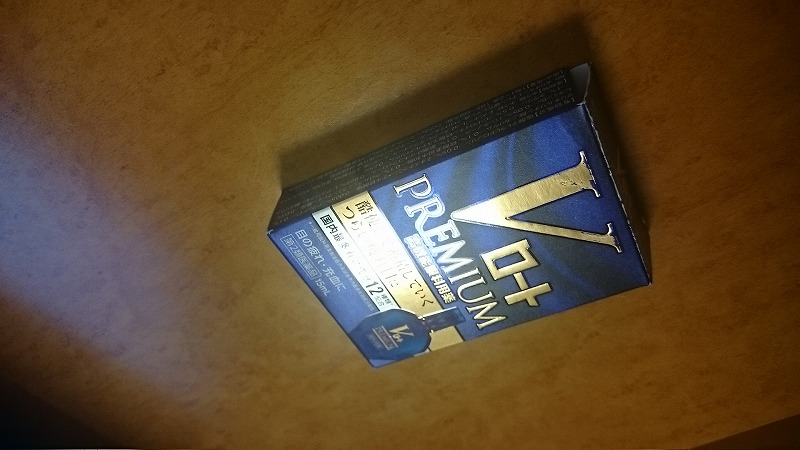D: (254, 57, 677, 370)
